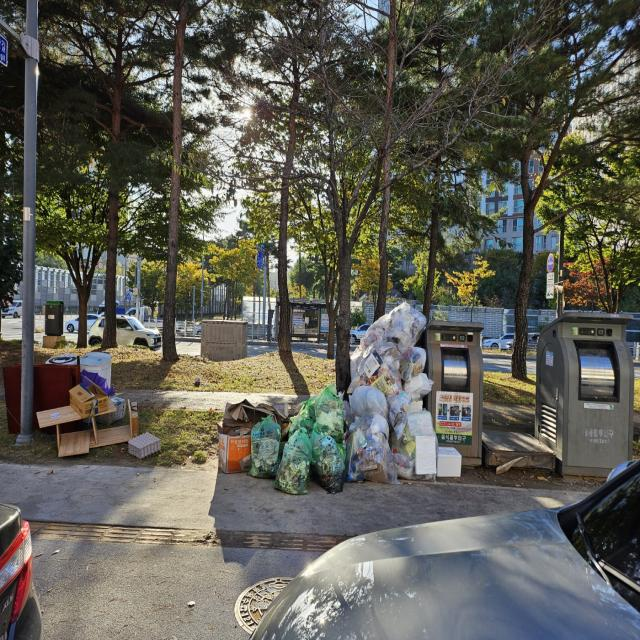CleanNet: (529, 305, 640, 485), (416, 316, 490, 482)
General Waste: (346, 294, 434, 482), (311, 380, 352, 446), (249, 413, 284, 482), (277, 426, 310, 498), (311, 434, 348, 496)
Large Waste Items: (28, 394, 145, 469), (1, 347, 94, 431)
